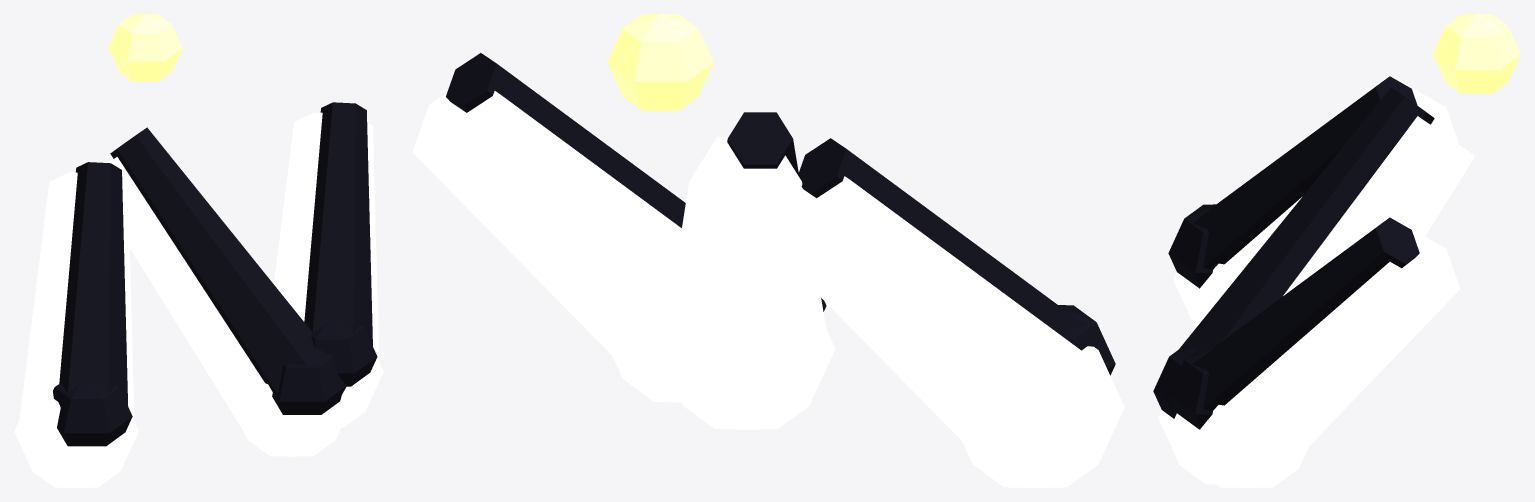
Rendered from fx_mark_ink_3.glb.
The picture shows the model from 3 angles, left to right: view 1: azimuth 30°, elevation 25°; view 2: azimuth 150°, elevation 25°; view 3: azimuth 270°, elevation 25°; orthographic projection. The views are drawn at different scales.
Visible parts, largest first — view 1: fx_mark_ink_3; view 2: fx_mark_ink_3; view 3: fx_mark_ink_3.
Boxes of the visible parts, <box> form: fx_mark_ink_3: <box>14,14,383,487</box>; fx_mark_ink_3: <box>412,14,1124,487</box>; fx_mark_ink_3: <box>1153,14,1520,487</box>.
Bounding box in the file's own units: 1.13 × 1 × 0.7479.
